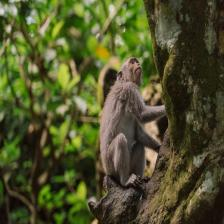monkey: (98, 50, 159, 197)
